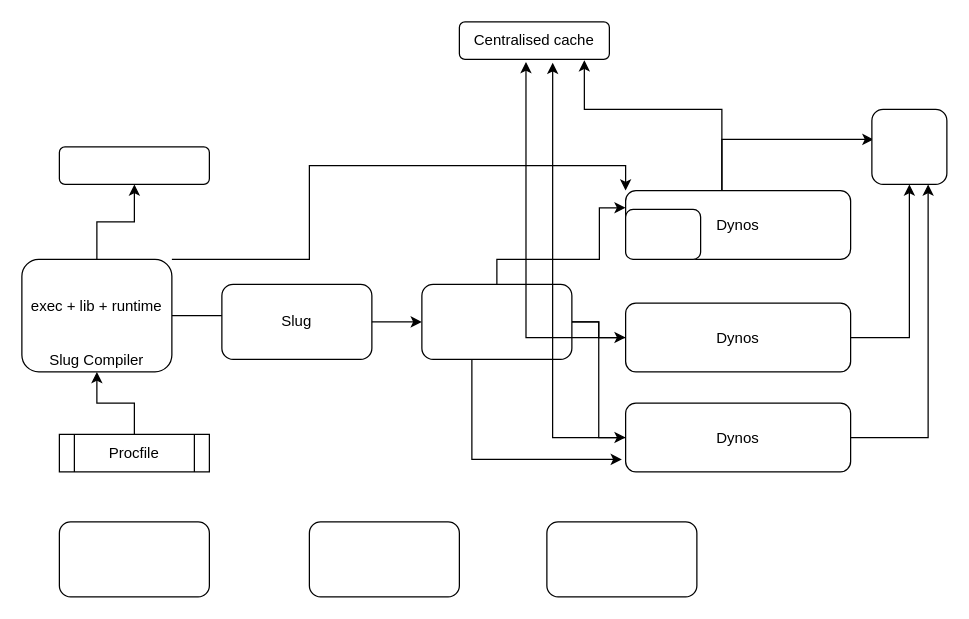
Image size: 969x619. Some labels were removed from this diagram. Each missing label, with the centre of its shape:
"Buildpack" goes at (x=133, y=165).
"Data" goes at (x=909, y=146).
"Dyno manager" goes at (x=496, y=321).
